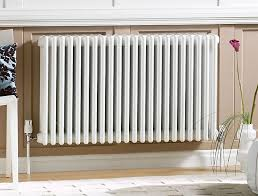Radiator: (24, 30, 221, 147)
